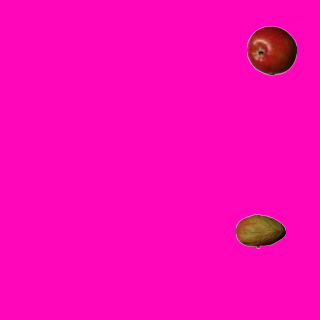Apple Braeburn: (246, 25, 296, 75)
Papaya: (235, 206, 285, 256)
